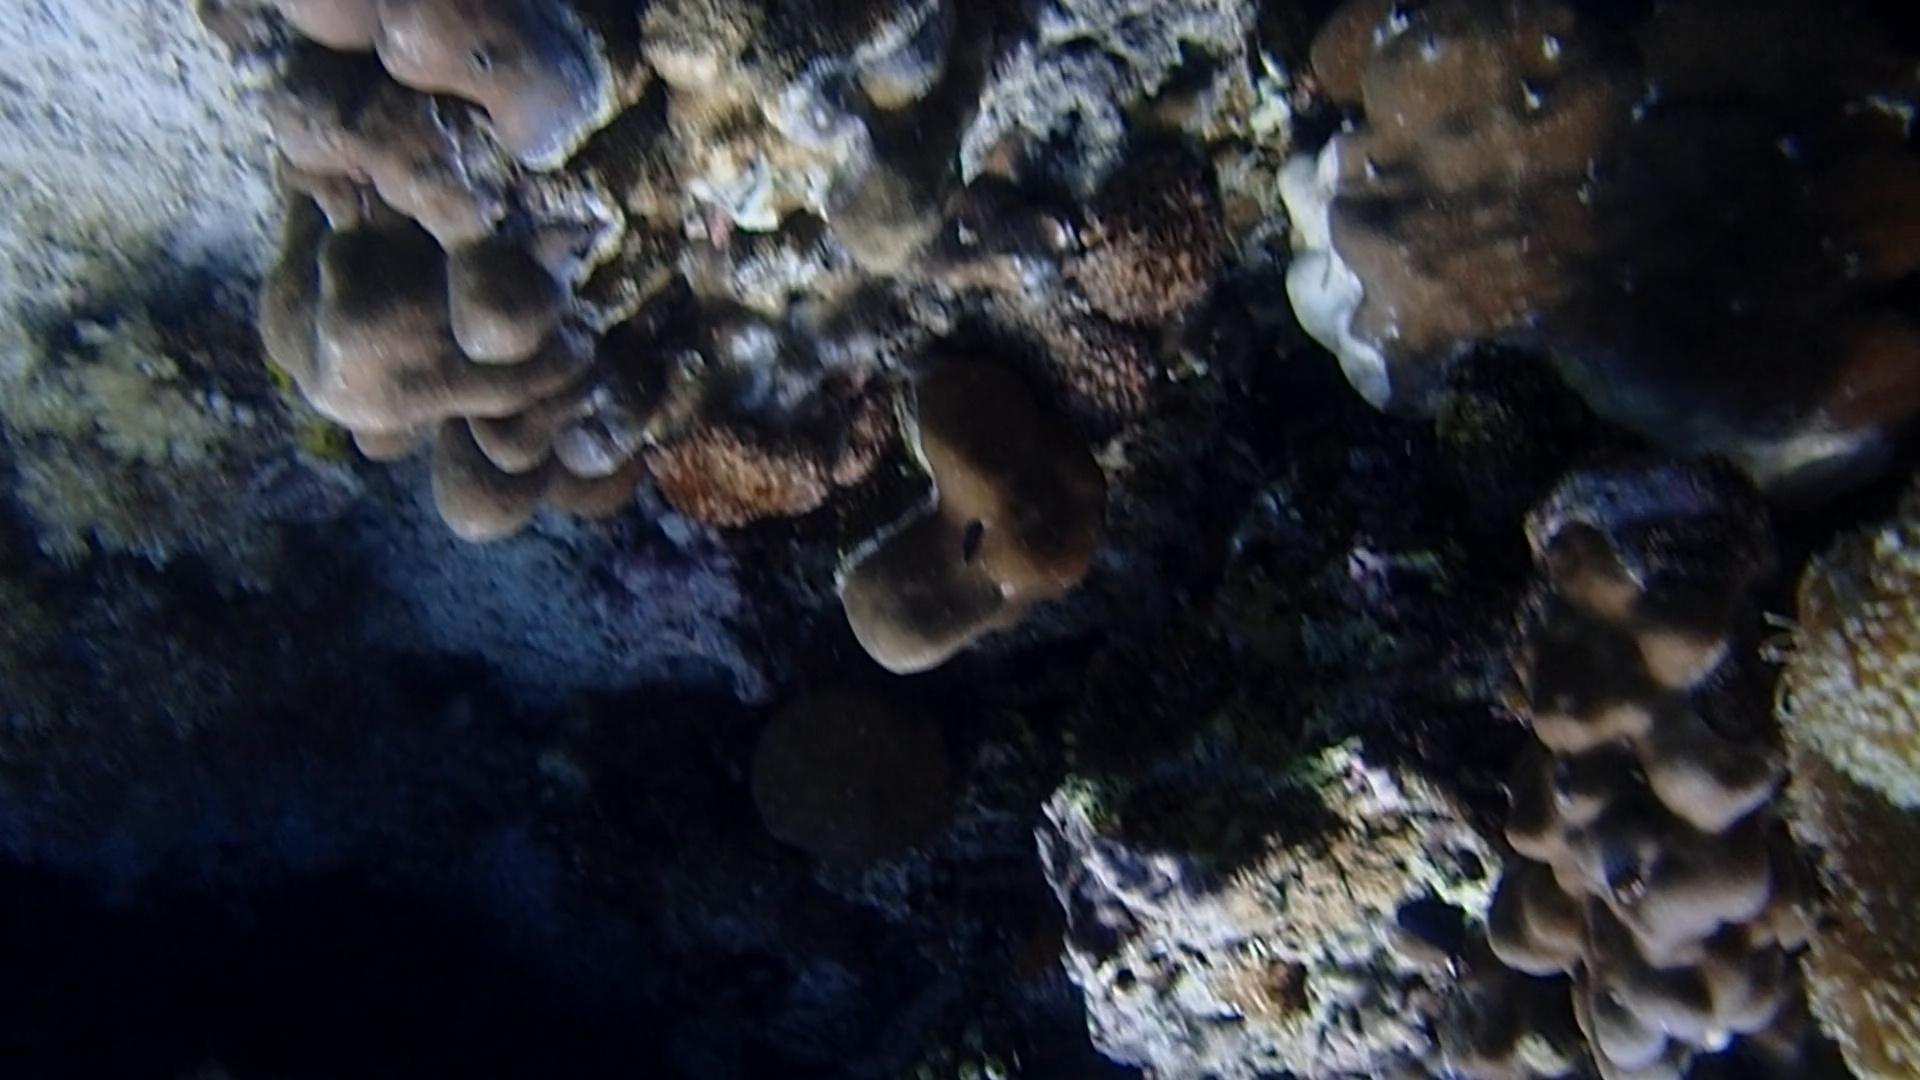Dark Fish: (1393, 884, 1499, 989)
Yellow Tail: (948, 504, 1000, 575)
